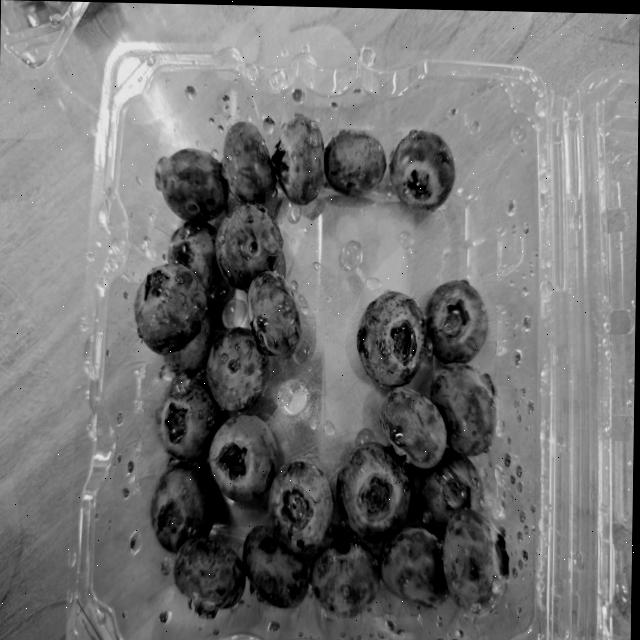RipeBlueBerry: (439, 510, 514, 614), (334, 439, 413, 536), (355, 285, 428, 387), (135, 259, 210, 354), (205, 411, 278, 506), (266, 455, 336, 552), (431, 359, 502, 454), (378, 380, 449, 470), (308, 535, 384, 619), (216, 197, 287, 286), (171, 535, 248, 617), (150, 462, 217, 553), (380, 522, 448, 611), (389, 126, 458, 213), (245, 523, 311, 613), (243, 267, 304, 361), (156, 374, 219, 463), (157, 145, 229, 221), (208, 324, 272, 409), (429, 275, 490, 359), (222, 117, 278, 203), (273, 112, 324, 205), (323, 124, 387, 197)
